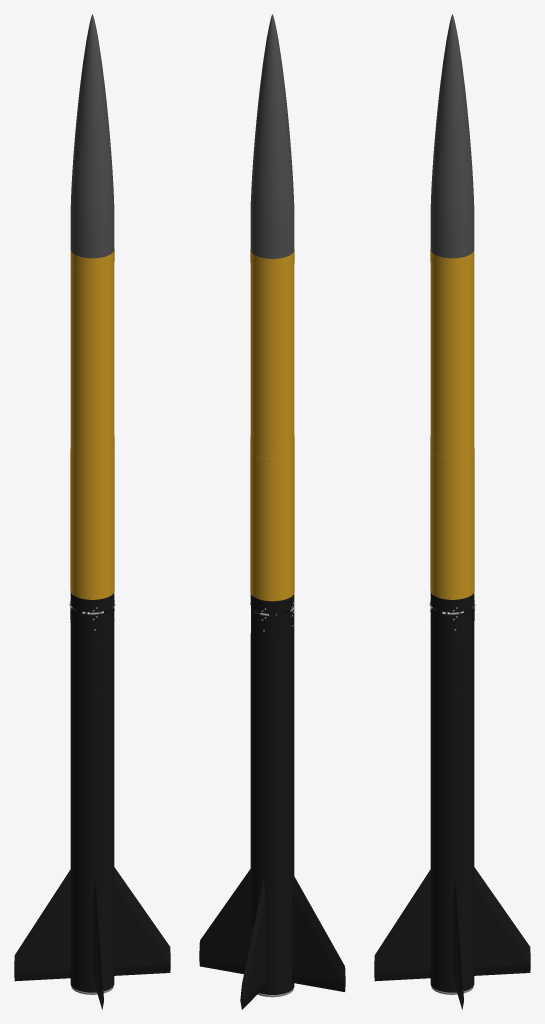
The model's file is rocket.obj.
3 views of the same model, side by side, from view 1: azimuth 90°, elevation 25°; view 2: azimuth 150°, elevation 25°; view 3: azimuth 270°, elevation 25° (orthographic).
Visible parts, largest first — view 1: rocket; view 2: rocket; view 3: rocket.
Part boxes in pixels (x1,y1,x2,y2): rocket: (14,14,170,1009); rocket: (199,14,345,1009); rocket: (374,14,530,1009).
Size of the model in its own units: 55.85 by 383 by 55.85.
